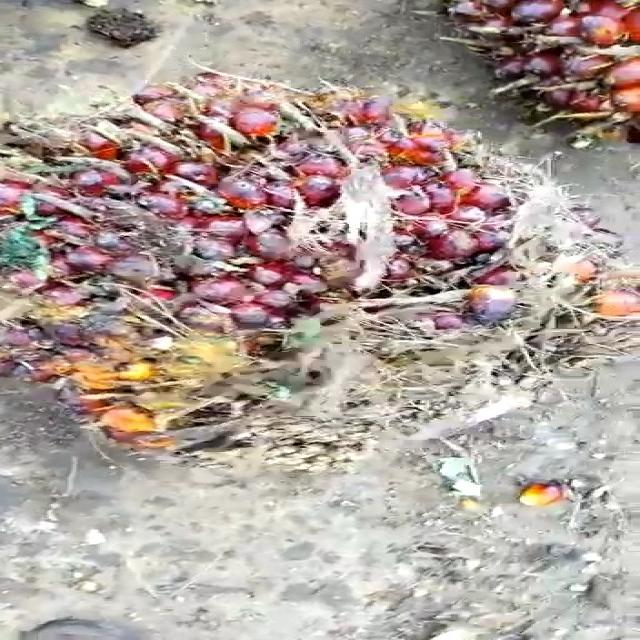palm oil: (0, 66, 605, 457)
